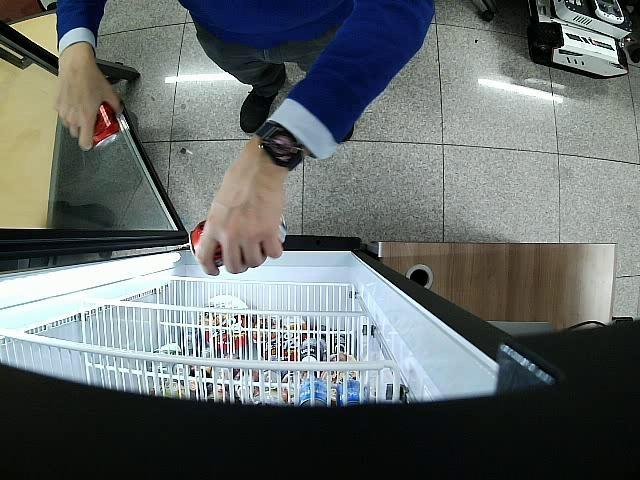11_cocaColaZero: (188, 214, 287, 269), (92, 100, 120, 152)
